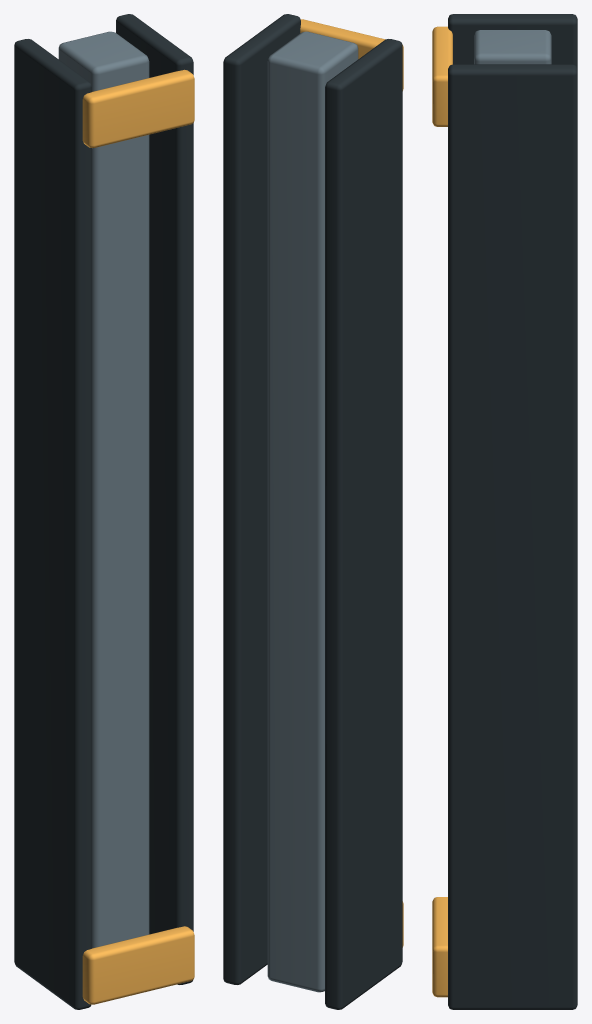
File: SM_FE_Beam.fbx
3 renders of one model, left to right at view 1: azimuth 30°, elevation 25°; view 2: azimuth 150°, elevation 25°; view 3: azimuth 270°, elevation 25°, orthographic.
Parts seen in each view (by area): view 1: SM_FE_Beam; view 2: SM_FE_Beam; view 3: SM_FE_Beam.
Boxes of the visible parts, x1,y1,x2,y2 form: SM_FE_Beam: (14, 14, 194, 1009); SM_FE_Beam: (223, 14, 403, 1009); SM_FE_Beam: (432, 14, 577, 1009).
Size of the model in its own units: 54 by 56 by 400.
